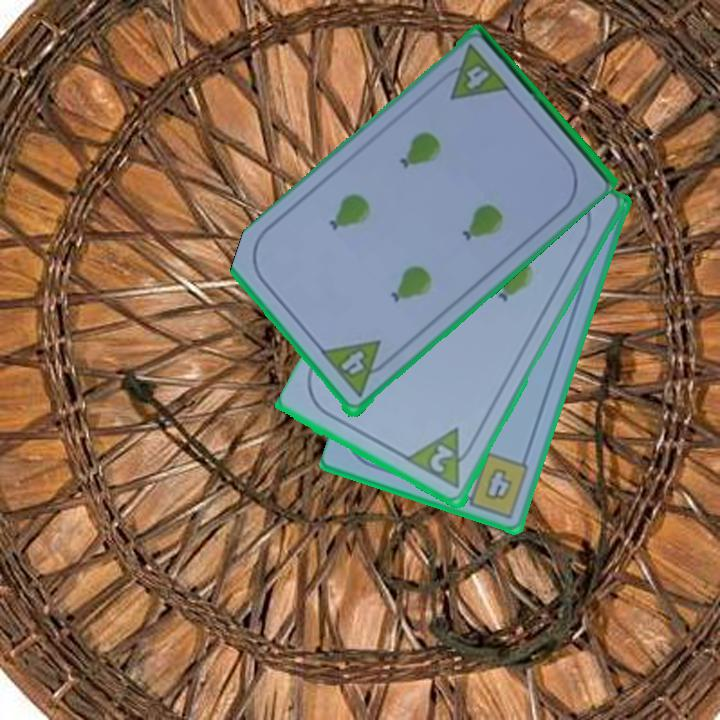2p: (426, 441, 457, 477)
4b: (456, 449, 532, 521)
4p: (318, 337, 396, 401), (433, 41, 512, 104)
